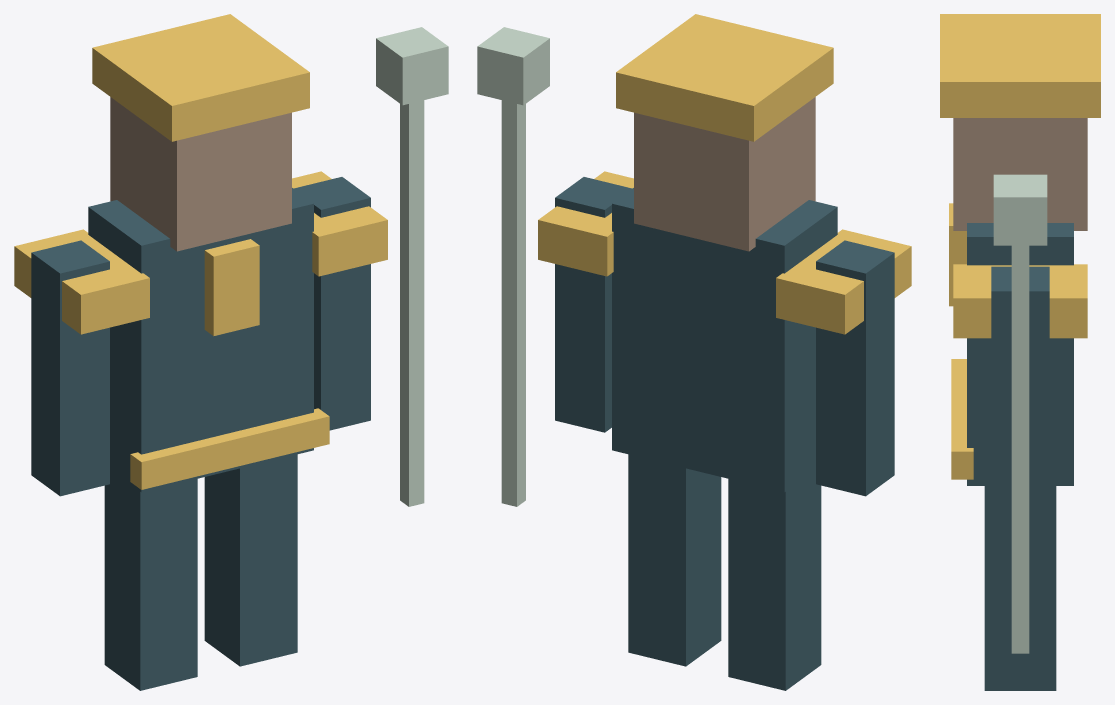
File: 07_dax_trenchmark_specialist_near_trainers.glb
3 renders of one model, left to right at view 1: azimuth 30°, elevation 25°; view 2: azimuth 150°, elevation 25°; view 3: azimuth 270°, elevation 25°, orthographic.
Visible parts, largest first — view 1: Dax Trenchmark, Specialist near Trainer's; view 2: Dax Trenchmark, Specialist near Trainer's; view 3: Dax Trenchmark, Specialist near Trainer's.
Boxes of the visible parts, x1,y1,x2,y2 form: Dax Trenchmark, Specialist near Trainer's: [14, 14, 448, 690]; Dax Trenchmark, Specialist near Trainer's: [477, 14, 911, 690]; Dax Trenchmark, Specialist near Trainer's: [940, 14, 1100, 690].
Size of the model in its own units: 0.9761 by 1.43 by 0.3462.
